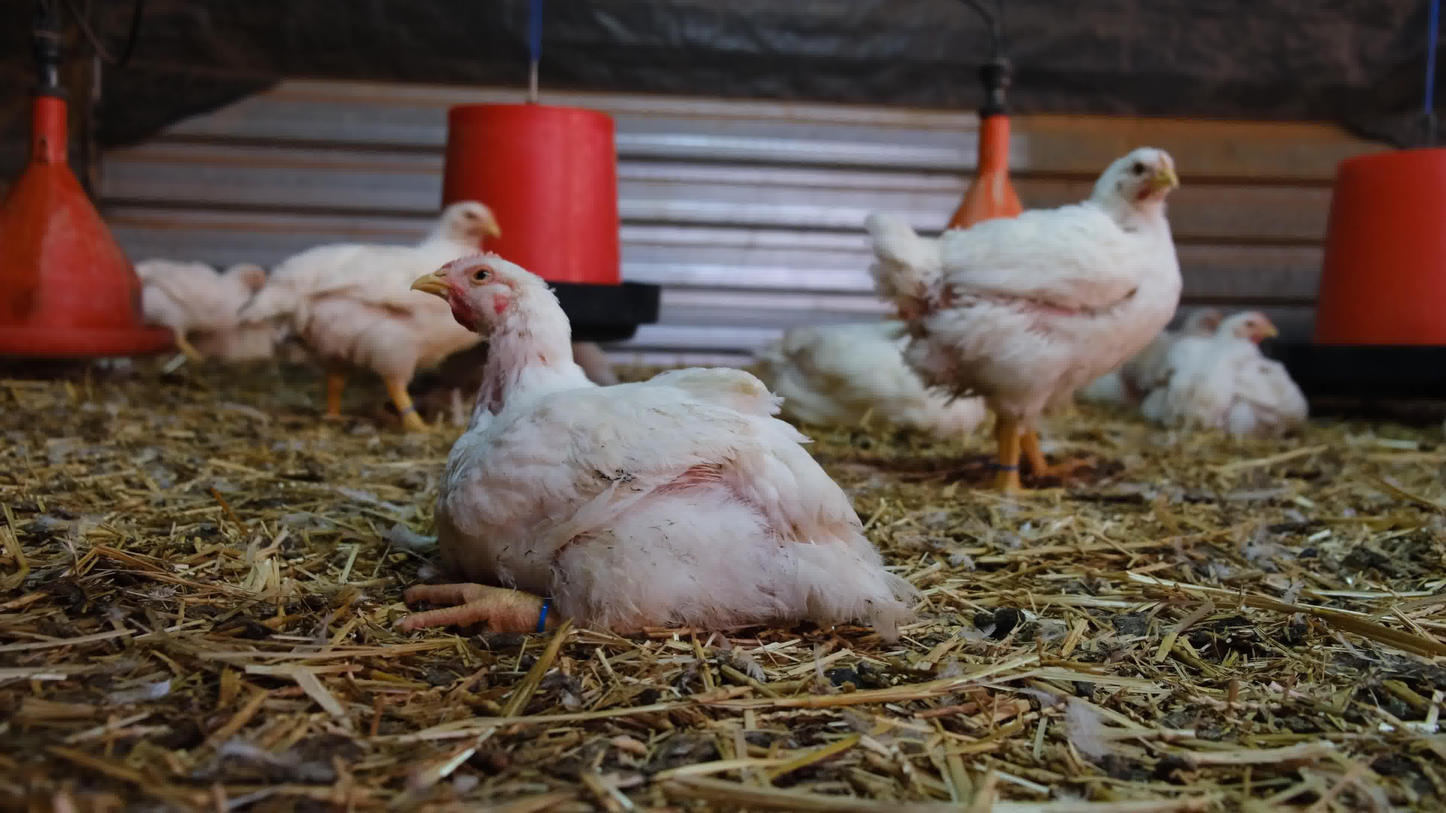AbNormal: (405, 251, 900, 632), (746, 317, 991, 435), (1147, 313, 1309, 425), (1123, 301, 1237, 414), (192, 317, 298, 372)
Normal: (864, 147, 1181, 511), (244, 200, 501, 449), (132, 256, 266, 363)
